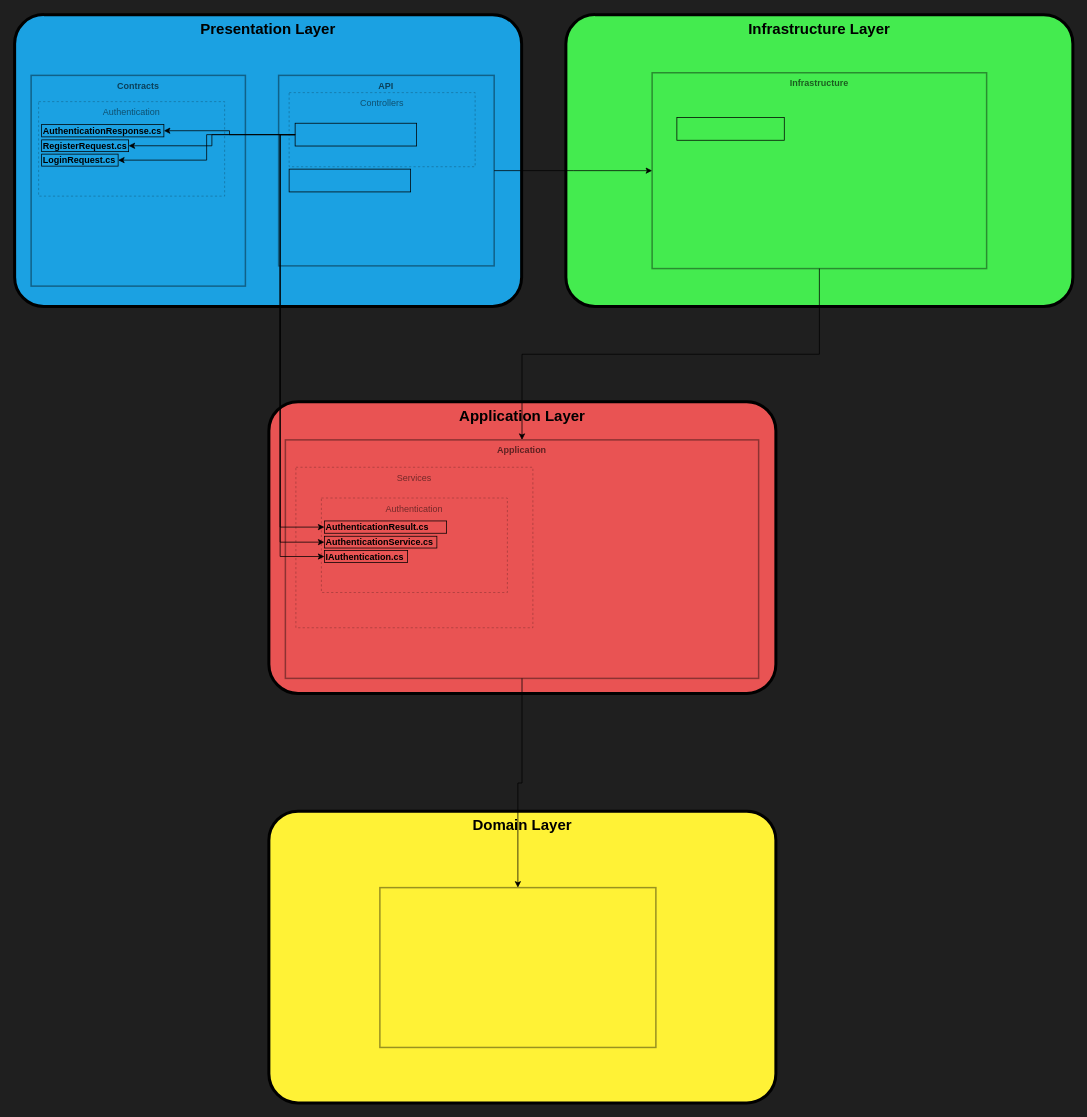
Some shapes in this 1087 by 1117 pixel diagram are drawn without their labels. Here are the shapes that lost their labels. From the top down, the centre of each, then its label:
At point 355,134: "AuthenticationController.cs".
At point 730,128: "DependencyInjection.cs".
At point 349,180: "Program.cs".
At point 517,967: "Domain".
